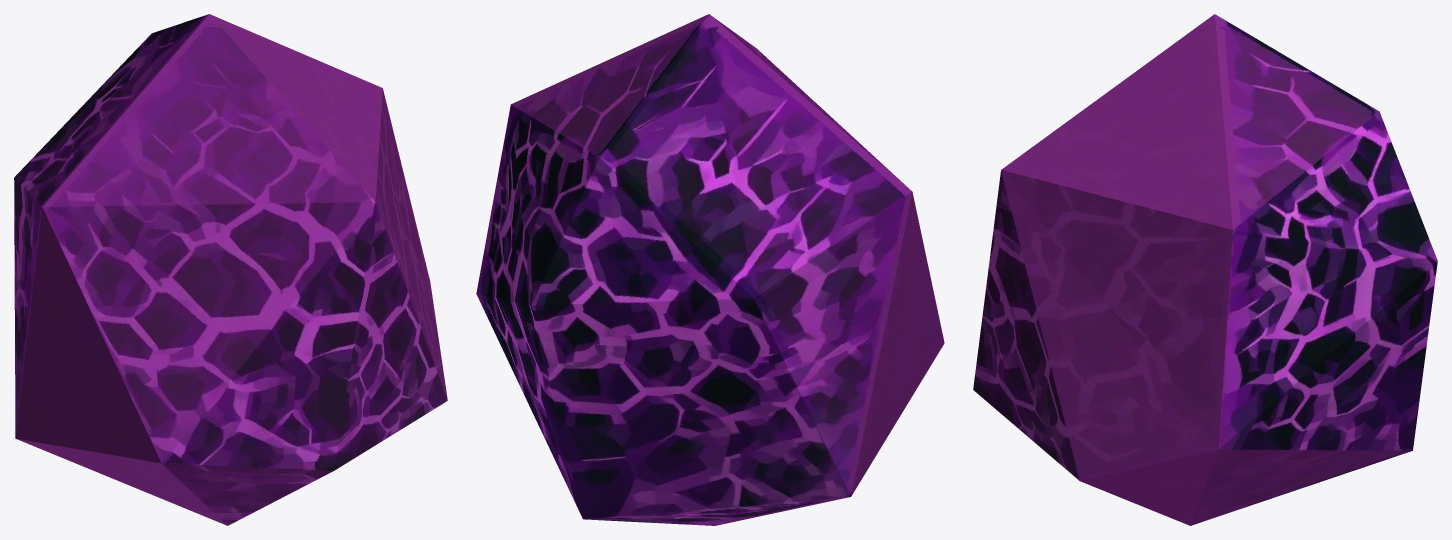
Rendered from purple_crystal_shard_1.glb.
3 views of the same model, side by side, from view 1: azimuth 30°, elevation 25°; view 2: azimuth 150°, elevation 25°; view 3: azimuth 270°, elevation 25° (orthographic). The views are drawn at different scales.
Size of the model in its own units: 1.42 by 1.7 by 1.41.
Materials: 1 (1 with a texture image).
